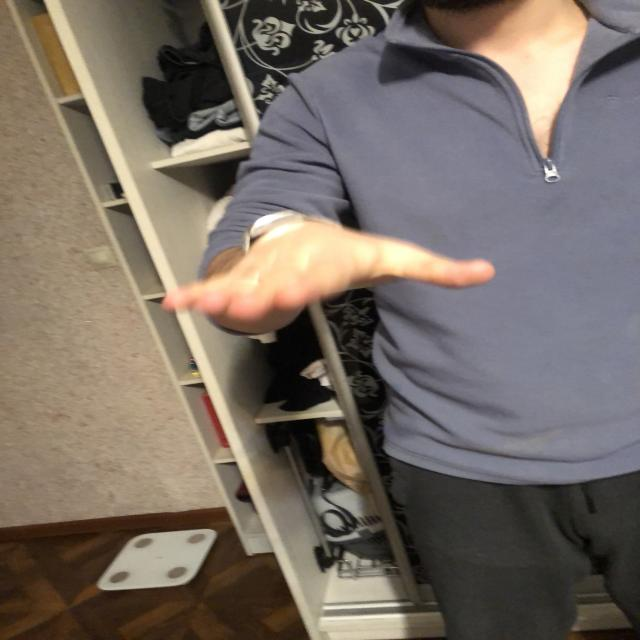paper: (153, 257, 494, 318)
